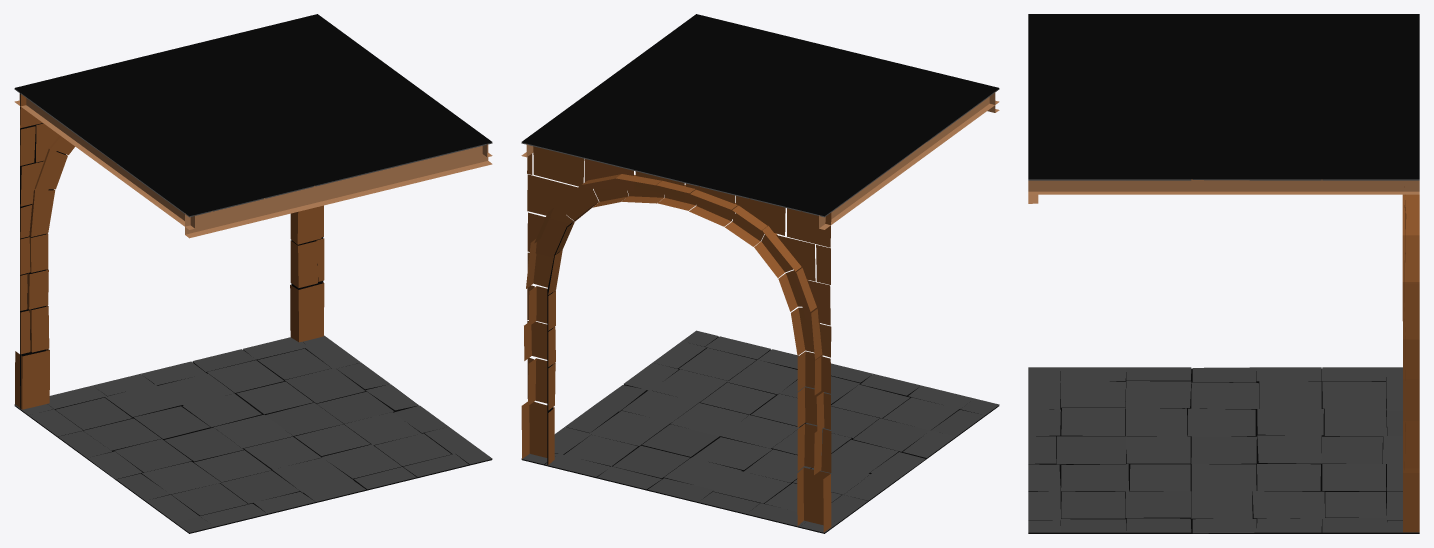
File: wall_2_door.glb
3 renders of one model, left to right at view 1: azimuth 30°, elevation 25°; view 2: azimuth 150°, elevation 25°; view 3: azimuth 270°, elevation 25°, orthographic. The views are drawn at different scales.
Visible parts, largest first — view 1: wall_2_door; view 2: wall_2_door; view 3: wall_2_door.
Part boxes in pixels (x1,y1,x2,y2): wall_2_door: [14, 14, 492, 533]; wall_2_door: [521, 14, 999, 533]; wall_2_door: [1028, 14, 1419, 533].
Size of the model in its own units: 3 by 3 by 3.
1 material, 1 textured.
